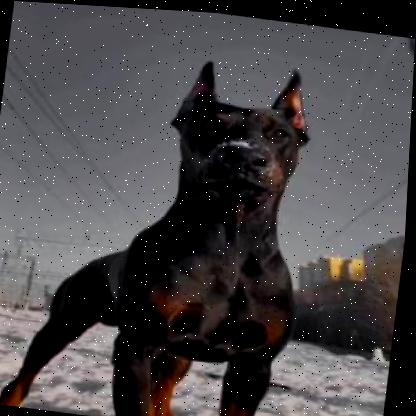dog: (0, 33, 328, 416)
